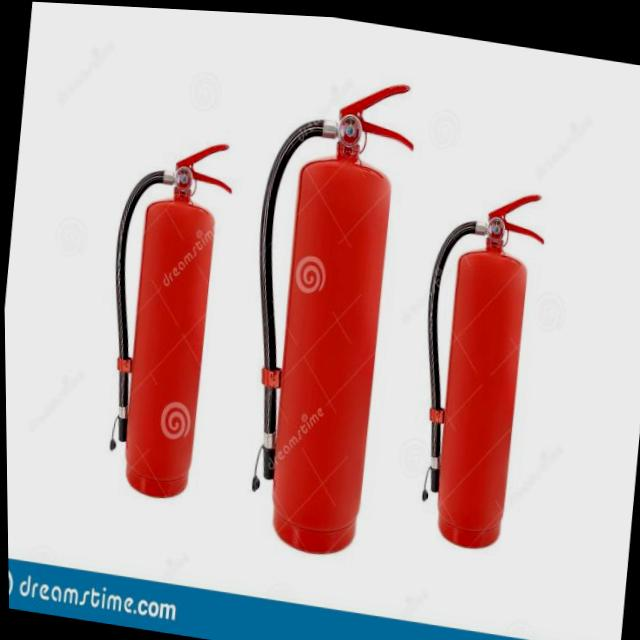FireExtinguisher: (221, 54, 427, 563), (85, 120, 245, 508), (396, 167, 554, 555)
